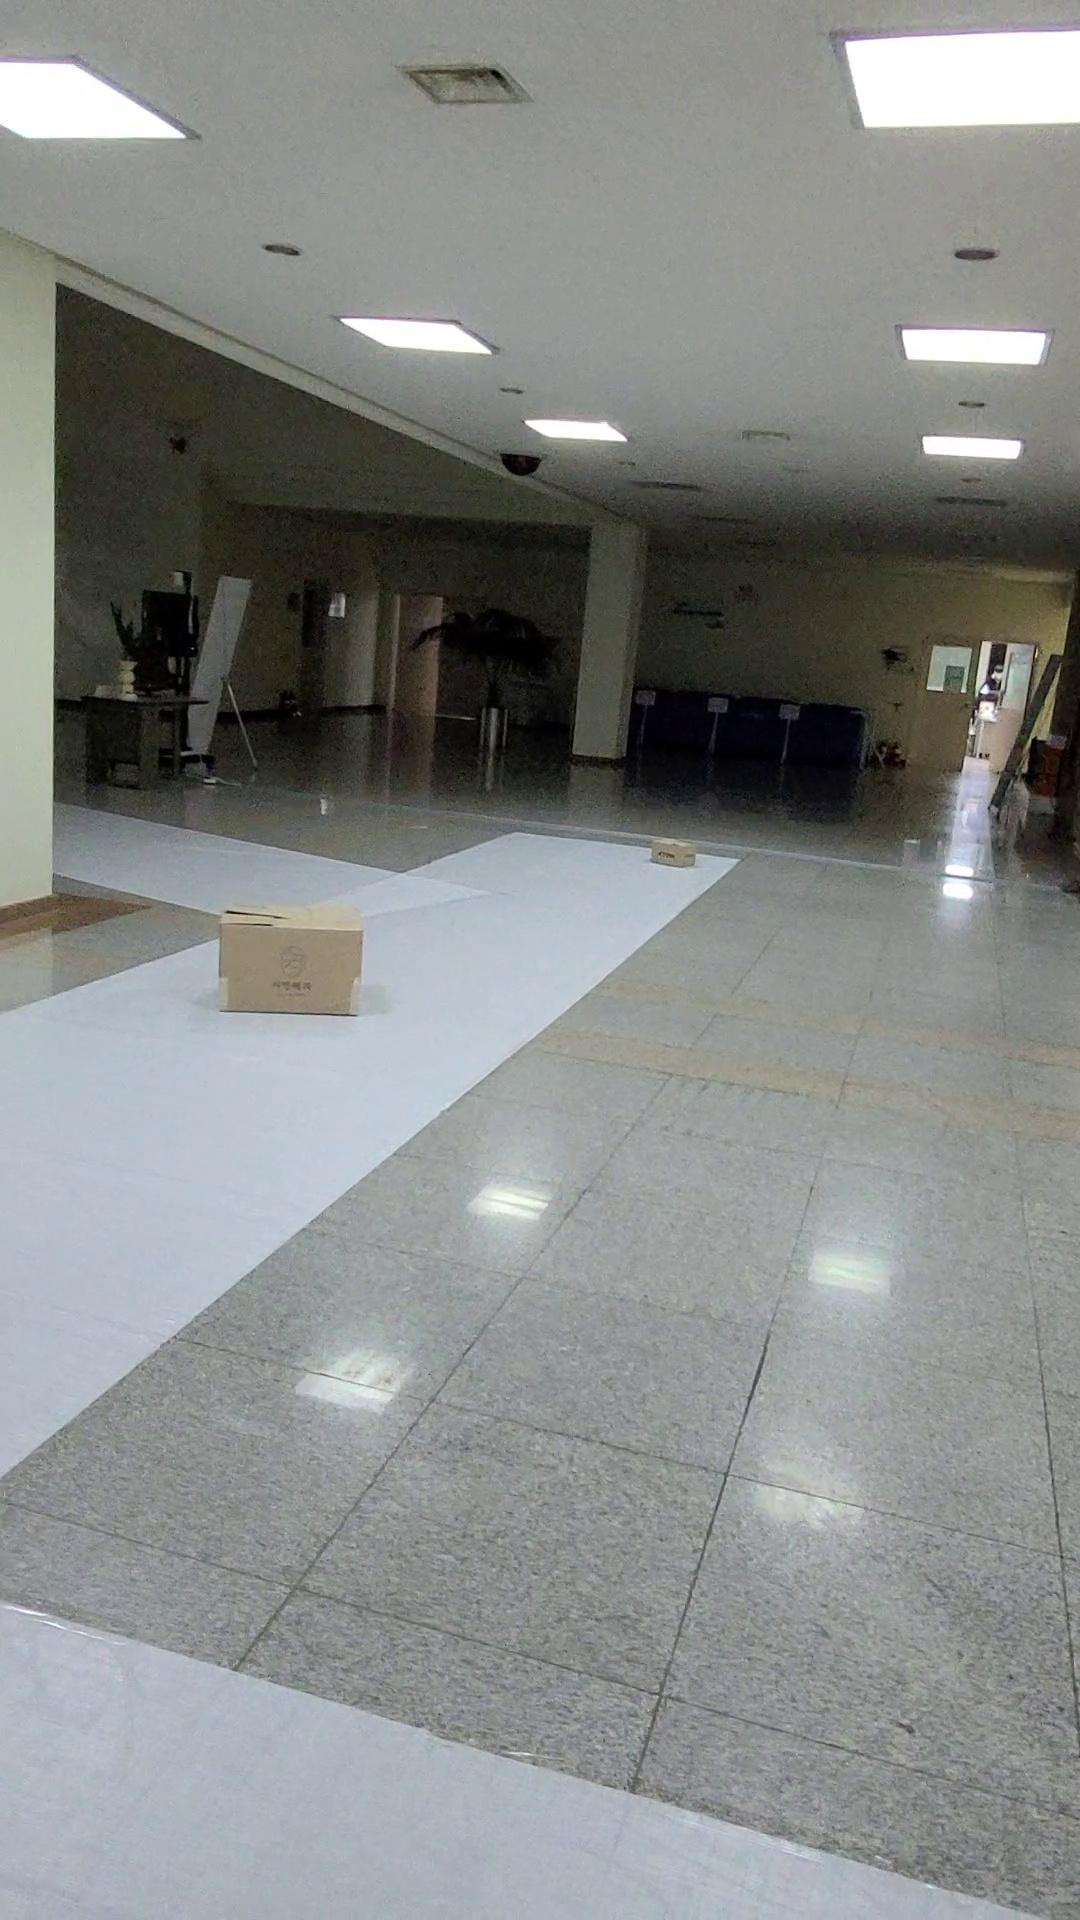Box: (206, 878, 378, 1058), (633, 814, 707, 880)
